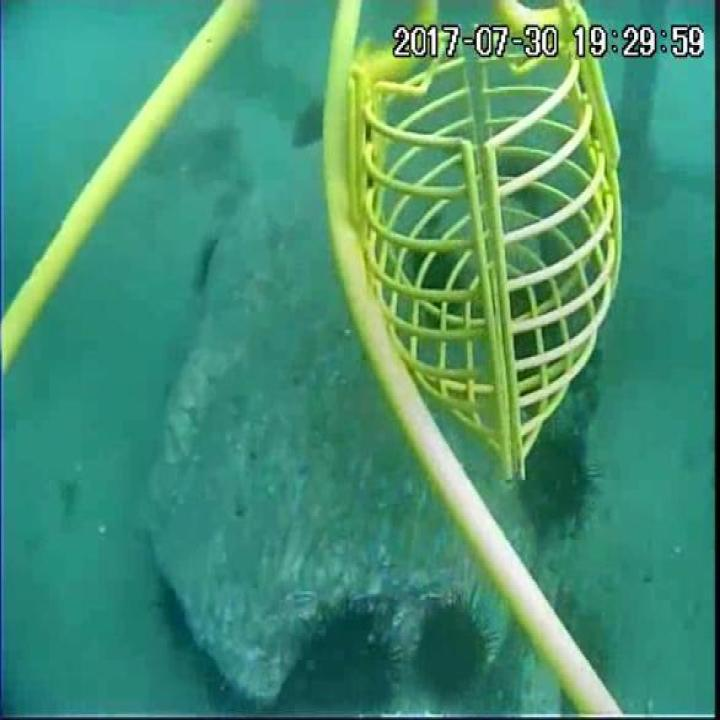echinus: (291, 595, 401, 720), (408, 591, 495, 714), (516, 430, 601, 532), (293, 96, 339, 152)
